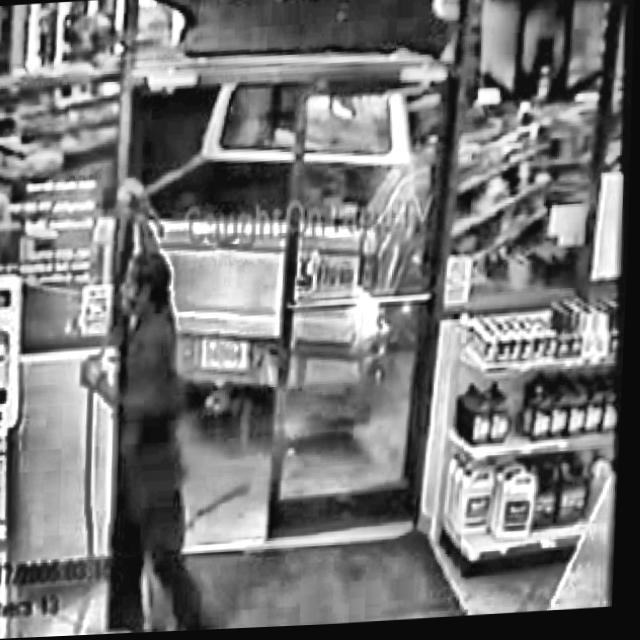burglary: (164, 64, 458, 463), (63, 170, 207, 637)
